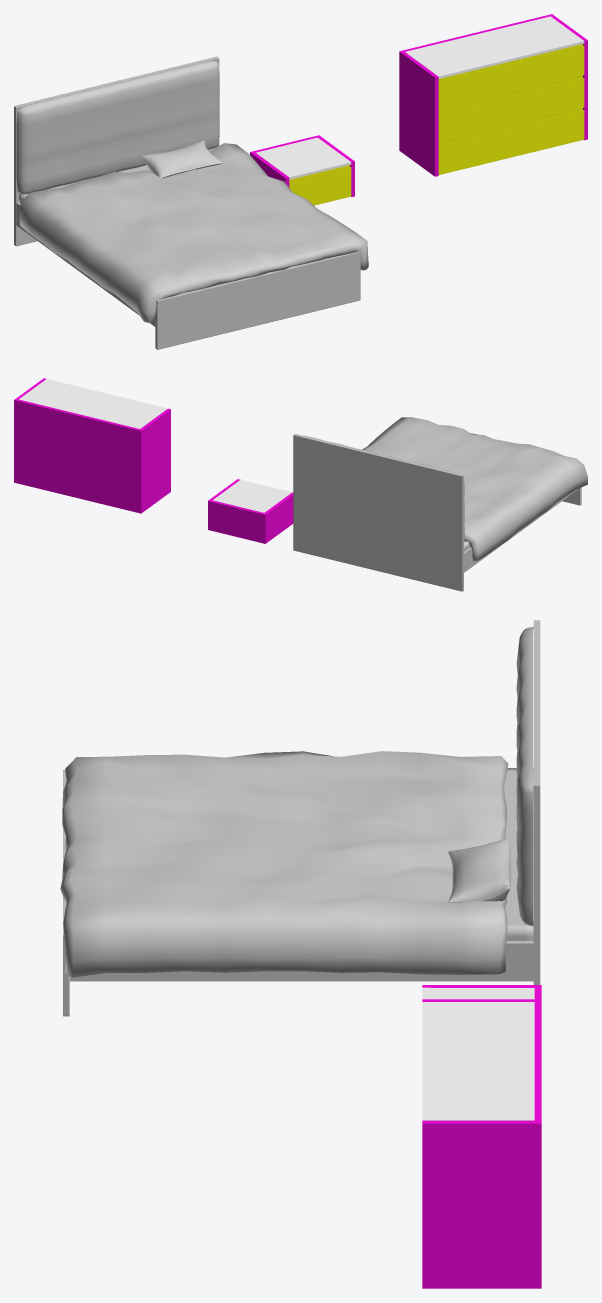
3 renders of one model, top to bottom at view 1: azimuth 30°, elevation 25°; view 2: azimuth 150°, elevation 25°; view 3: azimuth 270°, elevation 25°, orthographic. The views are drawn at different scales.
Parts seen in each view (by area): view 1: Blanket_2P, Lit_2P_Molleton_low, Lit_2P, Commode_2P, Tirroir_commode_2P_1, Tirroir_commode_2P_3, Tirroir_commode_2P_2, Chevet_2P, Chevet_2P_tirroir, Oreiller_R; view 2: Lit_2P, Commode_2P, Blanket_2P, Chevet_2P; view 3: Blanket_2P, Commode_2P, Lit_2P, Lit_2P_Molleton_low, Oreiller_R, Lit_2P.001, Chevet_2P.
Part boxes in pixels (x1,y1,x2,y2): Blanket_2P: [19, 143, 368, 322]; Lit_2P_Molleton_low: [16, 61, 219, 194]; Lit_2P: [14, 56, 360, 349]; Commode_2P: [399, 14, 587, 176]; Tirroir_commode_2P_1: [438, 110, 584, 174]; Tirroir_commode_2P_3: [438, 45, 584, 110]; Tirroir_commode_2P_2: [438, 78, 584, 142]; Chevet_2P: [250, 135, 354, 196]; Chevet_2P_tirroir: [289, 165, 351, 205]; Oreiller_R: [142, 141, 222, 178]; Lit_2P: [293, 434, 581, 591]; Commode_2P: [14, 378, 170, 513]; Blanket_2P: [362, 417, 587, 561]; Chevet_2P: [208, 479, 293, 543]; Blanket_2P: [60, 751, 508, 977]; Commode_2P: [422, 999, 541, 1288]; Lit_2P: [63, 620, 540, 1016]; Lit_2P_Molleton_low: [516, 627, 533, 925]; Oreiller_R: [448, 837, 511, 902]; Lit_2P.001: [504, 768, 533, 940]; Chevet_2P: [422, 985, 541, 999].
Bounding box in the file's own units: 460 × 111 × 210.
